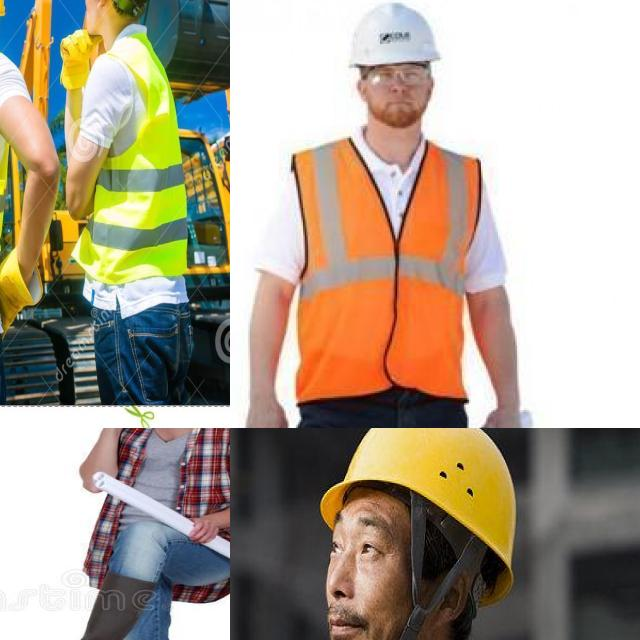No_Ear-Protection: (418, 575, 471, 640), (94, 0, 108, 9)
No_Glasses: (324, 514, 398, 569)
face_nomask: (326, 552, 411, 640), (342, 56, 433, 133), (72, 0, 117, 33)
glasses: (366, 66, 436, 87)
hand_glove: (0, 250, 44, 335), (57, 32, 100, 95)
hand_noglove: (230, 396, 293, 428), (474, 409, 534, 428)
head_helmet: (321, 428, 516, 606), (332, 3, 443, 64)
person: (275, 11, 498, 428), (68, 0, 198, 401)
vest: (289, 122, 476, 402), (113, 40, 189, 282)
